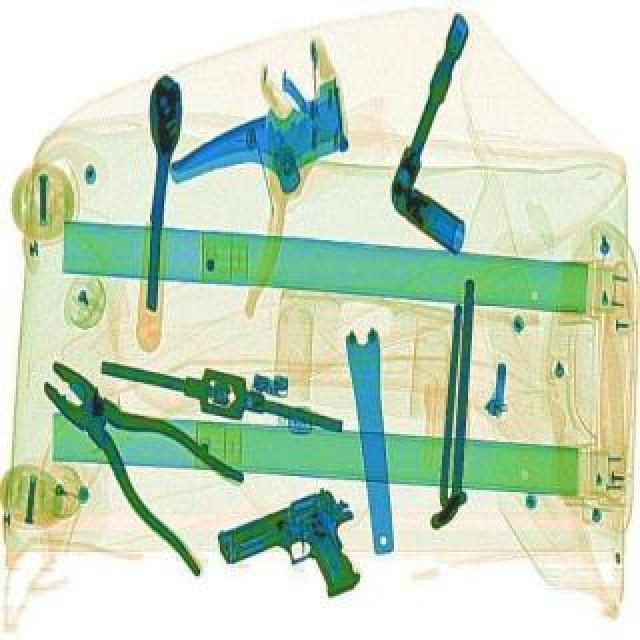gun: (210, 480, 384, 626)
wrench: (4, 334, 276, 578)
